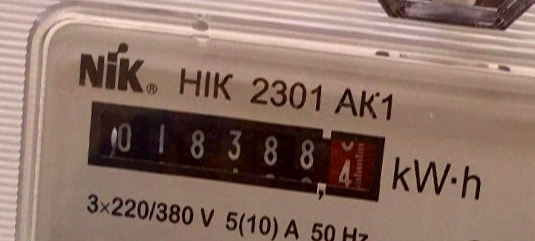0: (111, 118, 135, 157)
1: (149, 119, 172, 158)
3: (222, 127, 246, 164)
4: (332, 155, 357, 190)
8: (183, 124, 209, 163), (293, 135, 319, 174), (257, 133, 282, 170)
screen: (72, 85, 400, 220)
